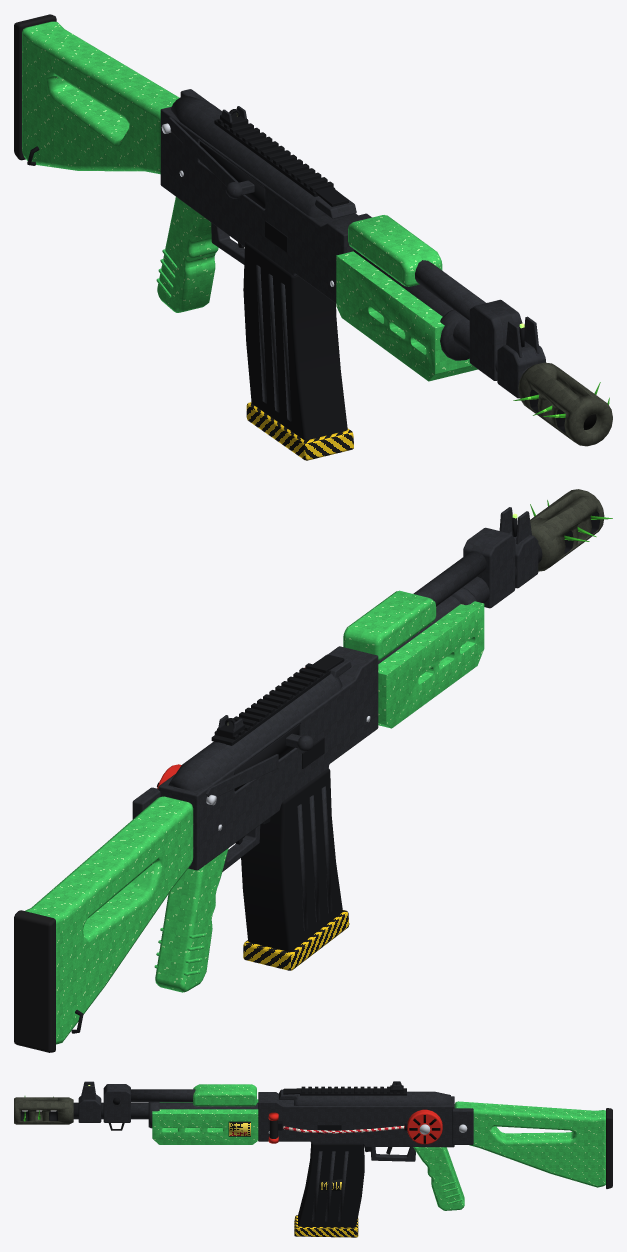
File: w_autoshot.glb
The picture shows the model from 3 angles, top to bottom: view 1: azimuth 30°, elevation 25°; view 2: azimuth 150°, elevation 25°; view 3: azimuth 270°, elevation 25°; orthographic projection. The views are drawn at different scales.
Visible parts, largest first — view 1: autoshot_body_wzA__as_green__p42d262, autoshot_body_wzA__as_steel__m26282d, mag_wzB__as_dark__p121316, autoshot_body_wzB__as_steel__m26282d, autoshot_body_wzB__as_dark__p121316, autoshot_body_wzB__as_park__p3c3f35, mag_wzN__as_hazard__p897317, mag_wzB__as_steel__m26282d, autoshot_body_wzA__as_rubber__p1a1a1c; view 2: autoshot_body_wzA__as_green__p42d262, autoshot_body_wzA__as_steel__m26282d, mag_wzB__as_dark__p121316, autoshot_body_wzB__as_steel__m26282d, autoshot_body_wzA__as_rubber__p1a1a1c, autoshot_body_wzB__as_dark__p121316, autoshot_body_wzB__as_park__p3c3f35, mag_wzN__as_hazard__p897317, mag_wzB__as_steel__m26282d; view 3: autoshot_body_wzA__as_green__p42d262, autoshot_body_wzA__as_steel__m26282d, mag_wzB__as_dark__p121316, autoshot_body_wzB__as_steel__m26282d, autoshot_body_wzB__as_dark__p121316, autoshot_body_wzB__as_park__p3c3f35, autoshot_body_wzN__as_red__pe8281e, mag_wzB__as_steel__m26282d, mag_wzN__as_hazard__p897317, autoshot_body_wzA__as_rubber__p1a1a1c, autoshot_body_wzN__as_cord__pe18685, autoshot_body_wzN__as_keep__pb99839 (+1 smaller).
Boxes of the visible parts, left/top/right/bottom form: autoshot_body_wzA__as_green__p42d262: left=22, top=21, right=477, bottom=381; autoshot_body_wzA__as_steel__m26282d: left=160, top=89, right=371, bottom=303; mag_wzB__as_dark__p121316: left=243, top=241, right=347, bottom=440; autoshot_body_wzB__as_steel__m26282d: left=353, top=249, right=545, bottom=398; autoshot_body_wzB__as_dark__p121316: left=27, top=109, right=565, bottom=433; autoshot_body_wzB__as_park__p3c3f35: left=236, top=112, right=612, bottom=446; mag_wzN__as_hazard__p897317: left=246, top=402, right=353, bottom=460; mag_wzB__as_steel__m26282d: left=256, top=265, right=291, bottom=421; autoshot_body_wzA__as_rubber__p1a1a1c: left=14, top=14, right=56, bottom=160; autoshot_body_wzA__as_green__p42d262: left=25, top=590, right=484, bottom=1044; autoshot_body_wzA__as_steel__m26282d: left=132, top=646, right=378, bottom=871; mag_wzB__as_dark__p121316: left=241, top=768, right=342, bottom=951; autoshot_body_wzB__as_steel__m26282d: left=378, top=507, right=542, bottom=663; autoshot_body_wzA__as_rubber__p1a1a1c: left=14, top=910, right=55, bottom=1052; autoshot_body_wzB__as_dark__p121316: left=71, top=511, right=600, bottom=1033; autoshot_body_wzB__as_park__p3c3f35: left=227, top=489, right=604, bottom=725; mag_wzN__as_hazard__p897317: left=243, top=910, right=349, bottom=970; mag_wzB__as_steel__m26282d: left=297, top=786, right=332, bottom=930; autoshot_body_wzA__as_green__p42d262: left=152, top=1084, right=605, bottom=1210; autoshot_body_wzA__as_steel__m26282d: left=258, top=1081, right=473, bottom=1161; mag_wzB__as_dark__p121316: left=298, top=1142, right=364, bottom=1227; autoshot_body_wzB__as_steel__m26282d: left=73, top=1081, right=258, bottom=1128; autoshot_body_wzB__as_dark__p121316: left=20, top=1083, right=407, bottom=1154; autoshot_body_wzB__as_park__p3c3f35: left=14, top=1097, right=73, bottom=1124; autoshot_body_wzN__as_red__pe8281e: left=268, top=1109, right=442, bottom=1144; mag_wzB__as_steel__m26282d: left=312, top=1151, right=348, bottom=1221; mag_wzN__as_hazard__p897317: left=294, top=1215, right=358, bottom=1237; autoshot_body_wzA__as_rubber__p1a1a1c: left=269, top=1108, right=612, bottom=1188; autoshot_body_wzN__as_cord__pe18685: left=283, top=1125, right=404, bottom=1133; autoshot_body_wzN__as_keep__pb99839: left=228, top=1121, right=250, bottom=1136.
Size of the model in its own units: 0.112 by 0.3471 by 1.27.
14 materials, 8 textured.
